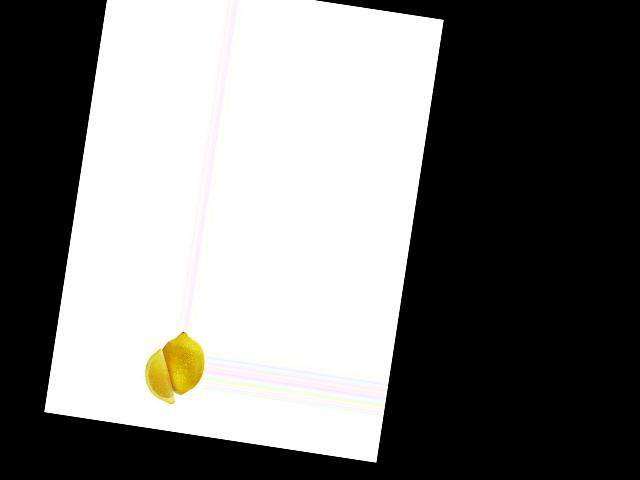lemon: (154, 327, 208, 401)
